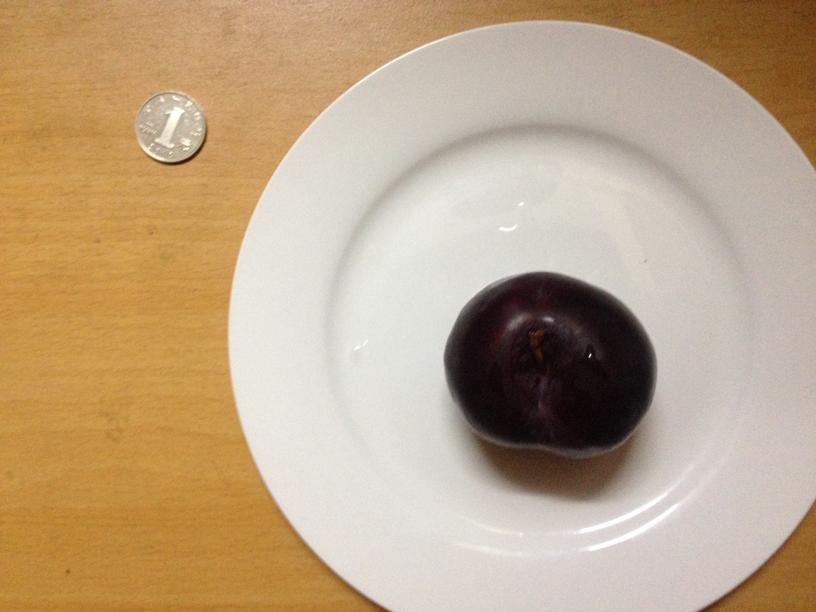coin: (129, 90, 209, 163)
plum: (445, 270, 657, 461)
